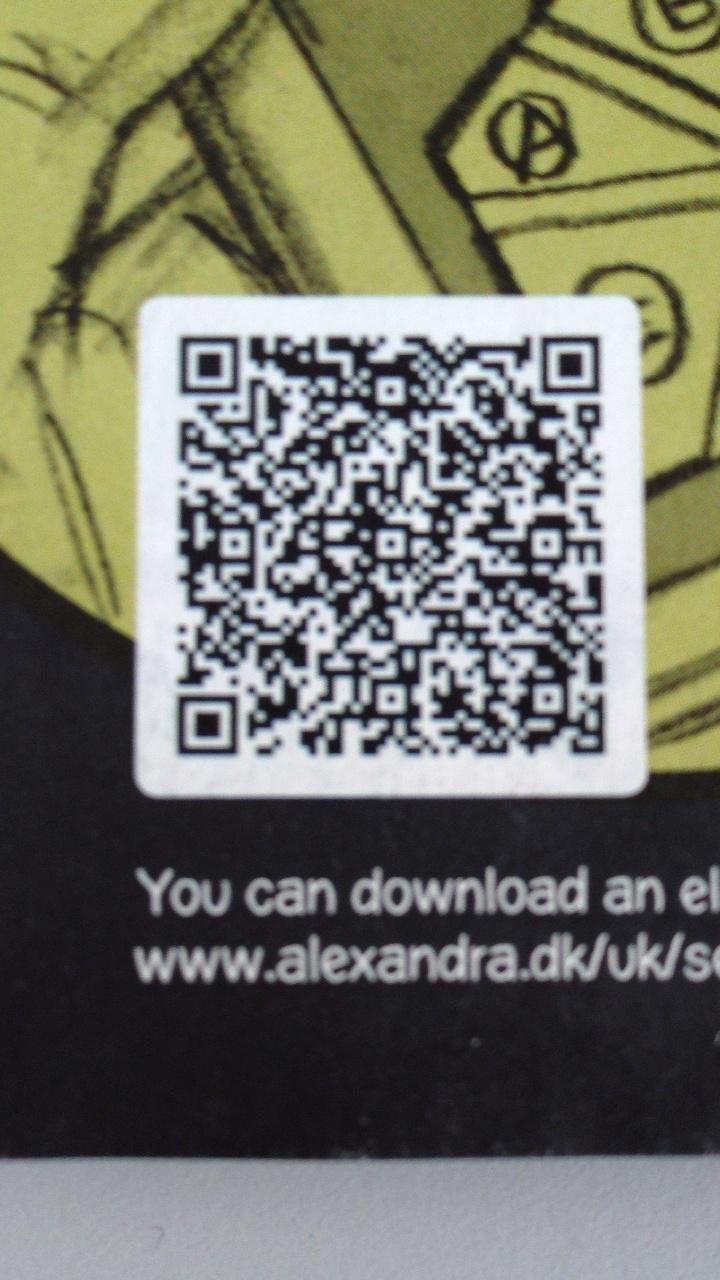qr_code: (178, 335, 605, 759)
